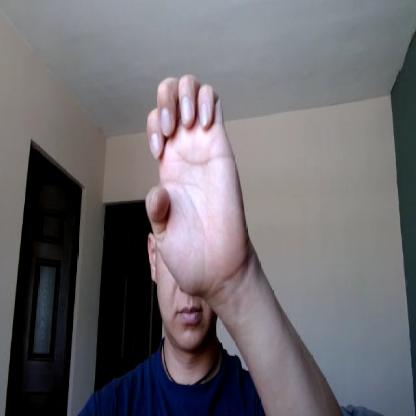E: (145, 74, 244, 289)
